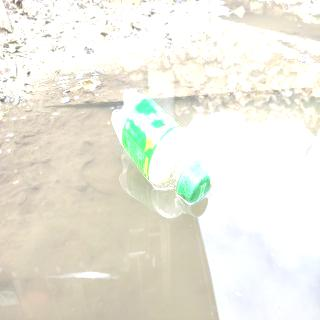bottle: (110, 87, 212, 205)
